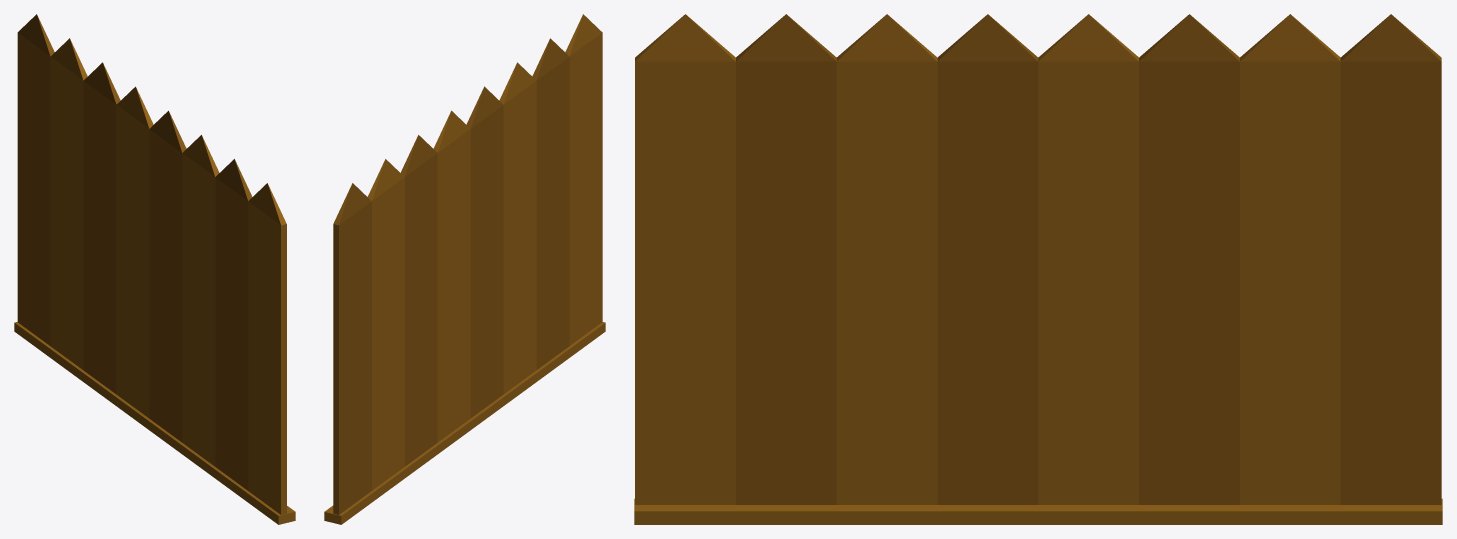
Rendered from woodfence2.fbx.
3 views of the same model, side by side, from view 1: azimuth 30°, elevation 25°; view 2: azimuth 150°, elevation 25°; view 3: azimuth 270°, elevation 25° (orthographic). The views are drawn at different scales.
Visible parts, largest first — view 1: Cube.007, Cube.006, Cube.003, Cube.001, Cube.002, Cube, Cube.004, Cube.005, Cube.008; view 2: Cube, Cube.005, Cube.003, Cube.006, Cube.007, Cube.004, Cube.001, Cube.002, Cube.008; view 3: Cube, Cube.004, Cube.005, Cube.003, Cube.006, Cube.007, Cube.001, Cube.002, Cube.008.
Part boxes in pixels (x1,y1,x2,y2): Cube.007: [248, 183, 286, 514]; Cube.006: [215, 159, 252, 490]; Cube.003: [116, 86, 153, 418]; Cube.001: [50, 38, 87, 369]; Cube.002: [83, 62, 120, 393]; Cube: [17, 14, 54, 345]; Cube.004: [149, 110, 186, 442]; Cube.005: [182, 135, 219, 466]; Cube.008: [14, 322, 295, 524]; Cube: [333, 183, 371, 514]; Cube.005: [499, 62, 536, 393]; Cube.003: [433, 110, 470, 442]; Cube.006: [532, 38, 569, 369]; Cube.007: [565, 14, 602, 345]; Cube.004: [466, 86, 503, 418]; Cube.001: [367, 159, 404, 490]; Cube.002: [400, 135, 437, 466]; Cube.008: [324, 322, 605, 524]; Cube: [1340, 14, 1441, 504]; Cube.004: [937, 14, 1038, 504]; Cube.005: [836, 14, 937, 504]; Cube.003: [1038, 14, 1138, 504]; Cube.006: [736, 14, 836, 504]; Cube.007: [635, 14, 735, 504]; Cube.001: [1240, 14, 1340, 504]; Cube.002: [1139, 14, 1239, 504]; Cube.008: [634, 498, 1442, 524].
Bounding box in the file's own units: 0.6 × 11 × 16.04.
